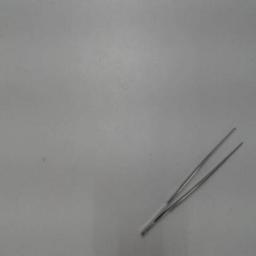Gillies Toothed Dissector: (136, 119, 248, 245)
